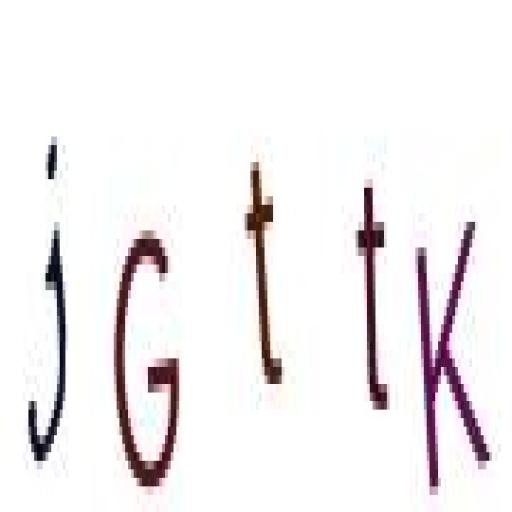G: (108, 200, 192, 501)
K: (410, 186, 496, 500)
j: (18, 124, 84, 484)
t: (236, 141, 296, 407), (350, 155, 397, 425)
